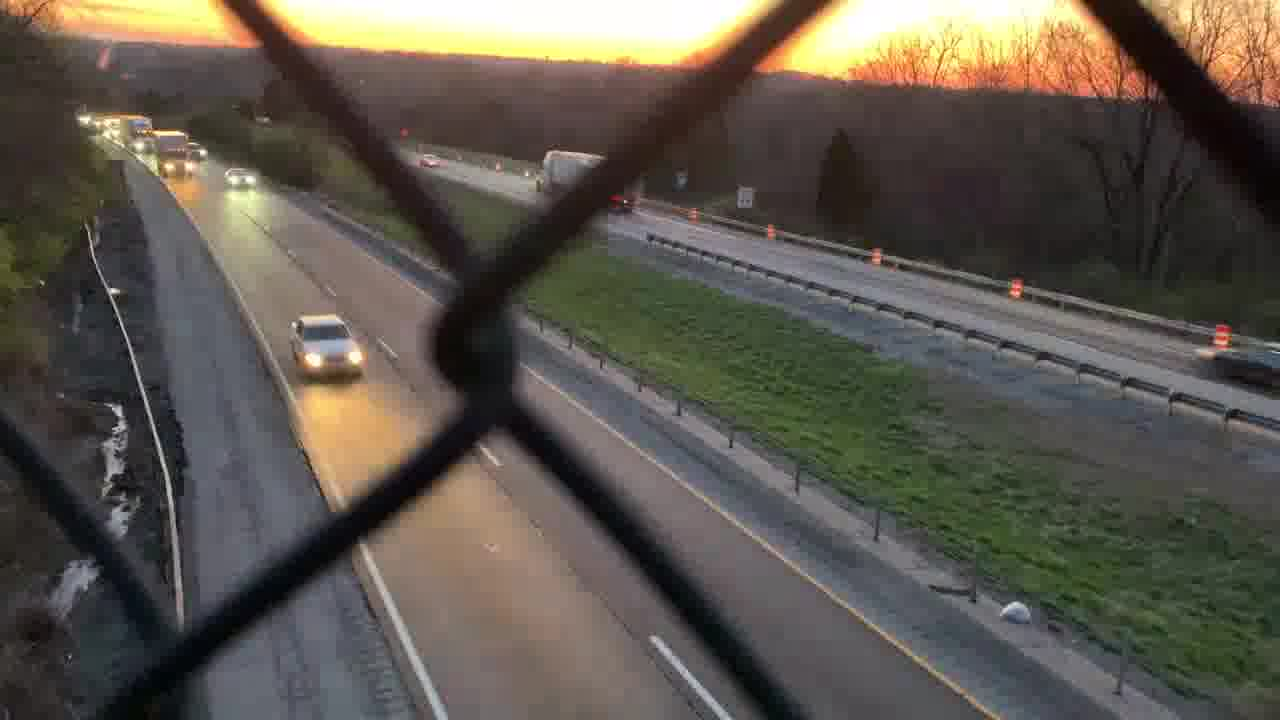heavyTruck: (541, 152, 637, 217), (149, 127, 194, 178)
smallCar: (286, 315, 366, 380), (221, 170, 254, 193)
